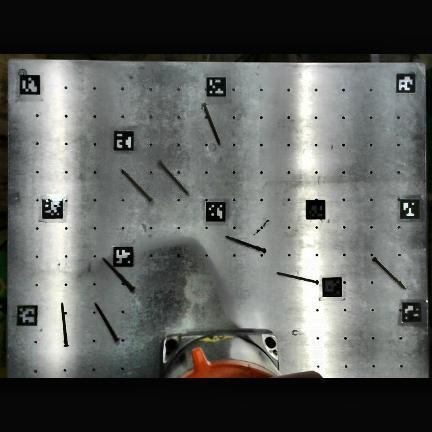golden_screw: (103, 258, 134, 290), (159, 161, 188, 194), (373, 258, 404, 288), (122, 171, 152, 201), (95, 304, 118, 340), (227, 236, 266, 253), (204, 104, 220, 145), (277, 273, 318, 284), (61, 303, 68, 346)
marker: (17, 304, 38, 325), (400, 198, 420, 219), (42, 198, 62, 218), (113, 246, 133, 266), (114, 130, 134, 150), (206, 75, 226, 95), (403, 300, 422, 321), (206, 201, 225, 222), (20, 75, 40, 94), (396, 73, 415, 93), (306, 200, 325, 219), (323, 278, 342, 296)
